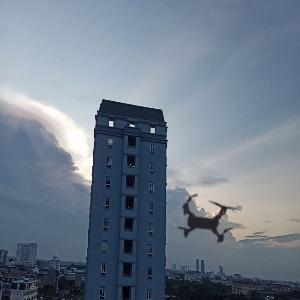drone: (156, 167, 260, 271)
